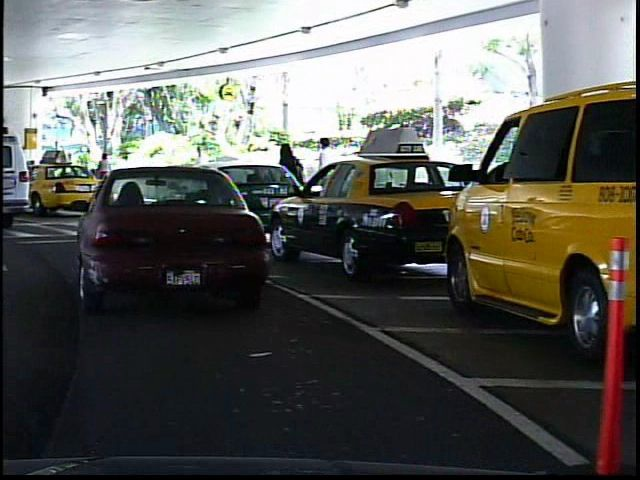person: (271, 135, 306, 225), (311, 131, 342, 218), (187, 140, 213, 204), (90, 148, 115, 197)
